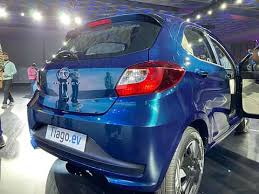Tiago: (27, 10, 244, 193)
